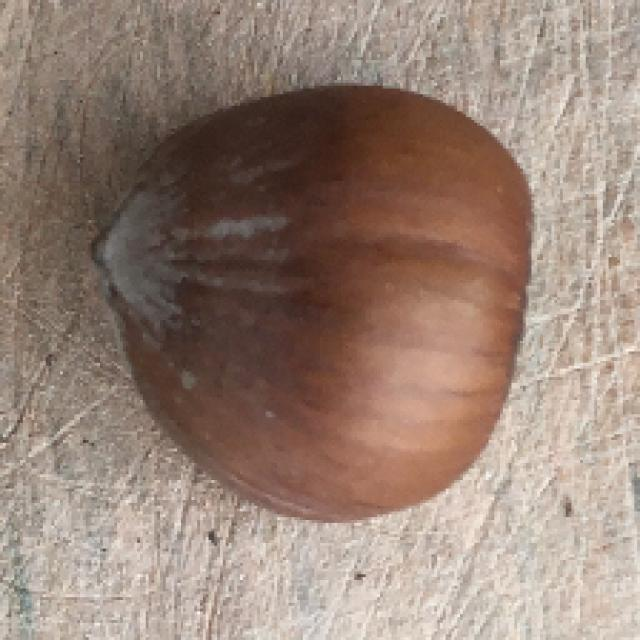damagedHazelnut: (96, 86, 536, 525)
